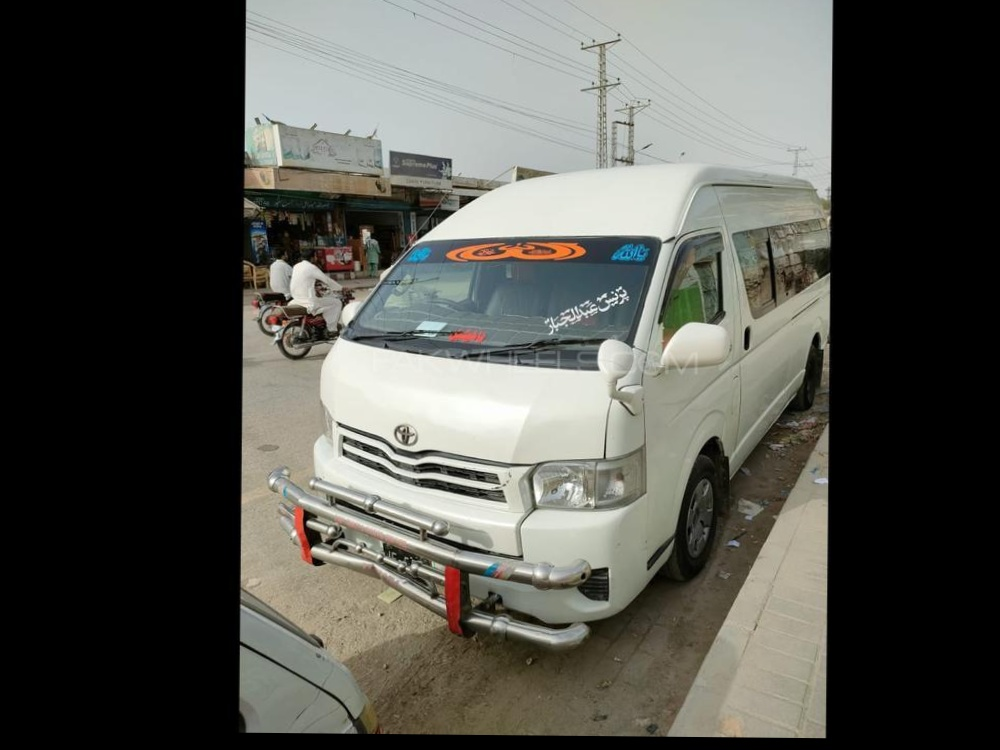van: (311, 152, 832, 637)
